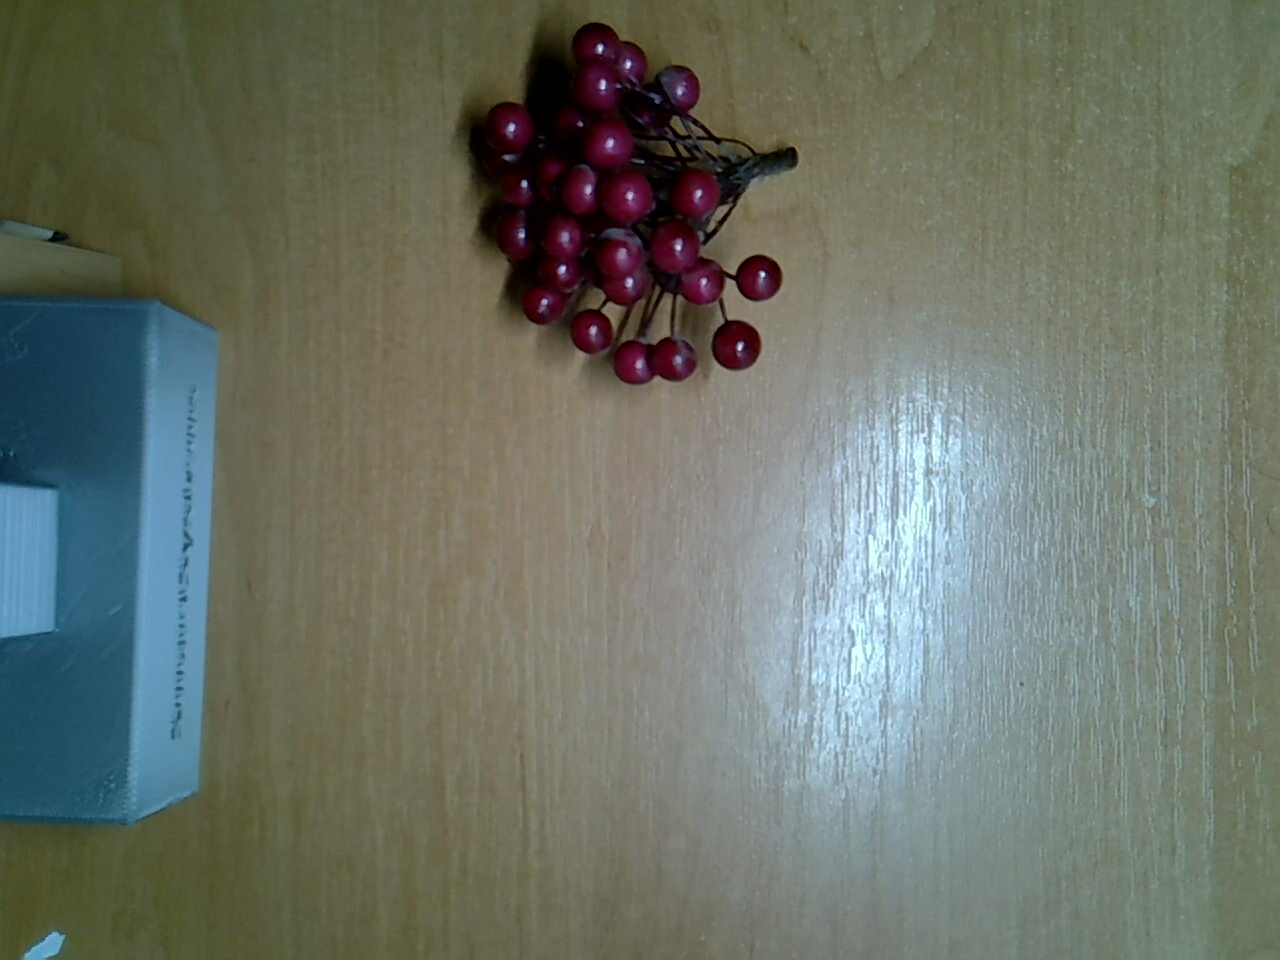berries: (458, 22, 807, 389)
